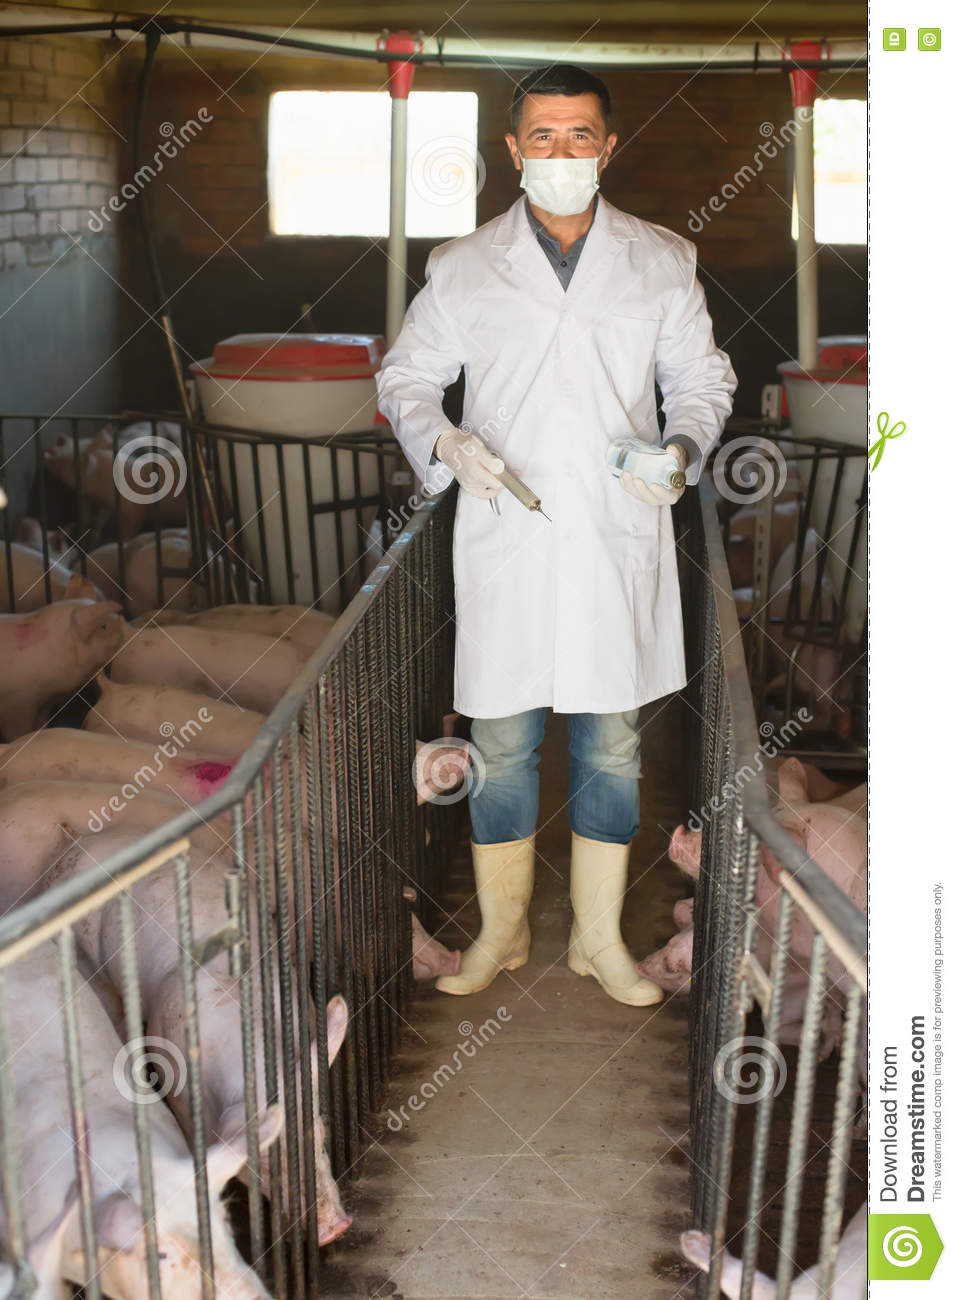mask: (524, 157, 598, 233)
